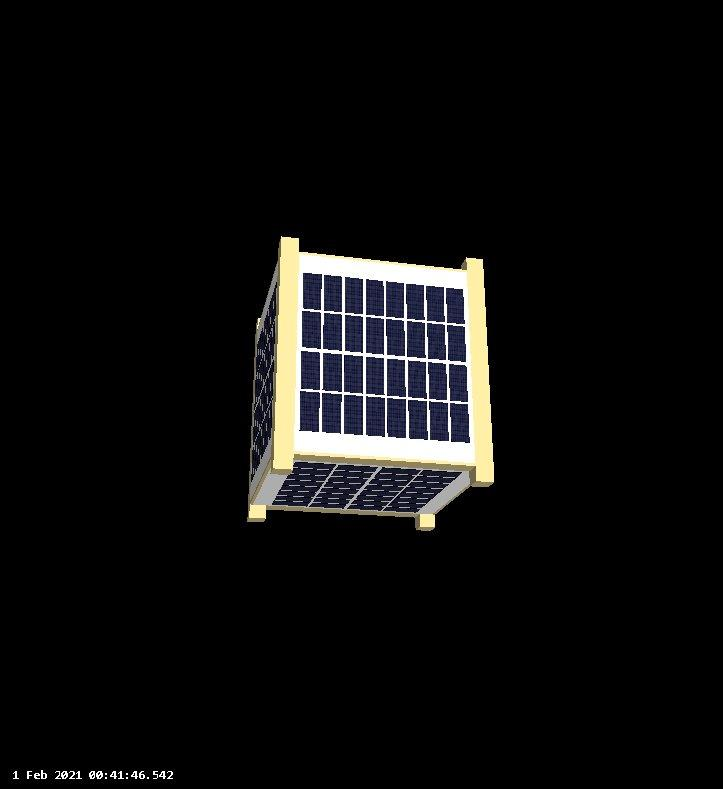body: (244, 234, 496, 533)
solar: (297, 269, 474, 447), (270, 460, 464, 515), (249, 278, 283, 485)
